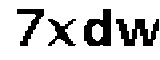7: (10, 6, 46, 51)
d: (83, 6, 113, 50)
w: (114, 15, 160, 53)
x: (47, 17, 79, 52)
